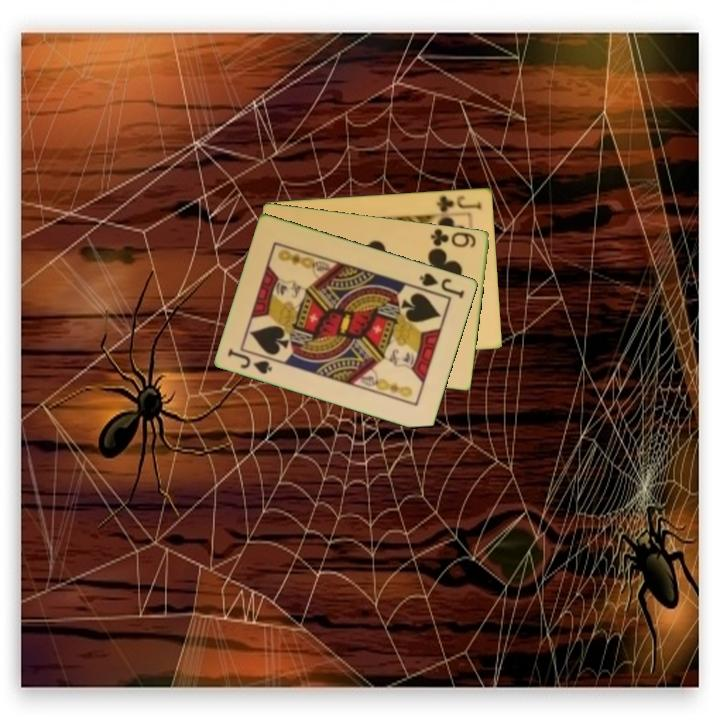6c: (427, 225, 479, 250)
Jc: (433, 192, 485, 215)
Js: (224, 344, 275, 377), (416, 269, 468, 301)
